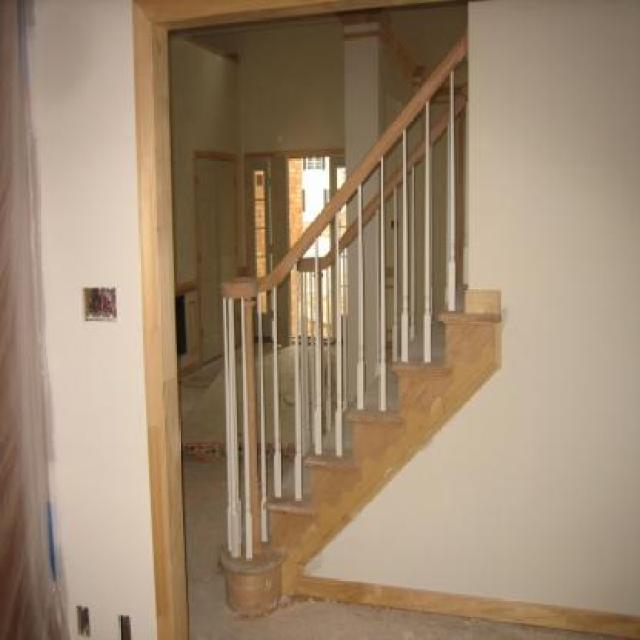stair: (215, 290, 500, 616)
